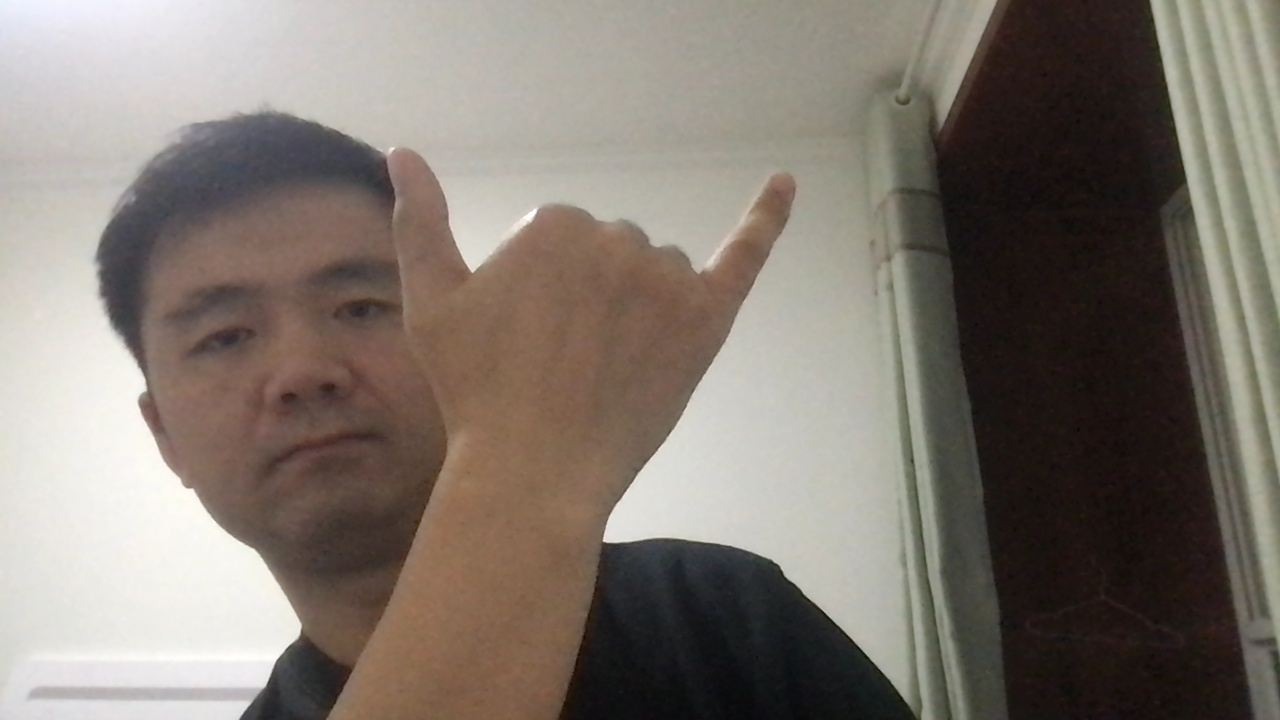iloveyou: (369, 132, 820, 454)
